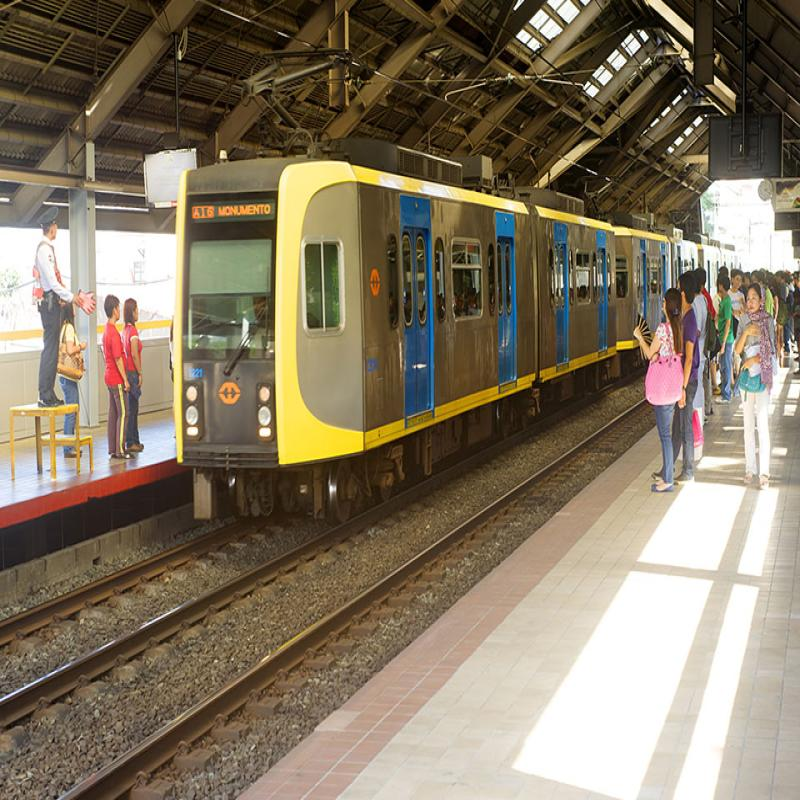train: (163, 130, 609, 470)
